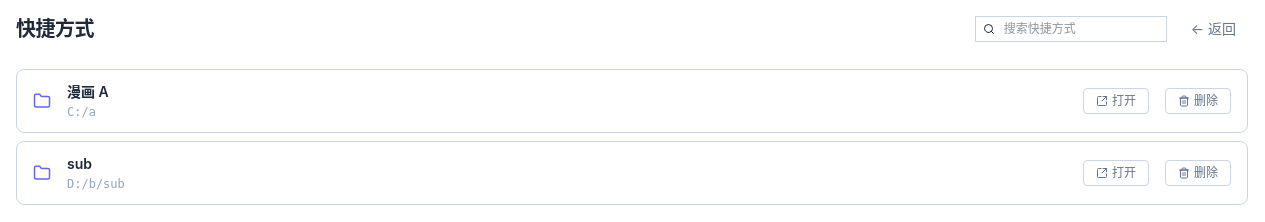
Scenario: Shortcuts.vue › 搜索：按别名/路径子串过滤，无结果显示「没有匹配项」
In the field with test id "list-search-input": (1071,29) [975,16,1167,42], type "漫画"
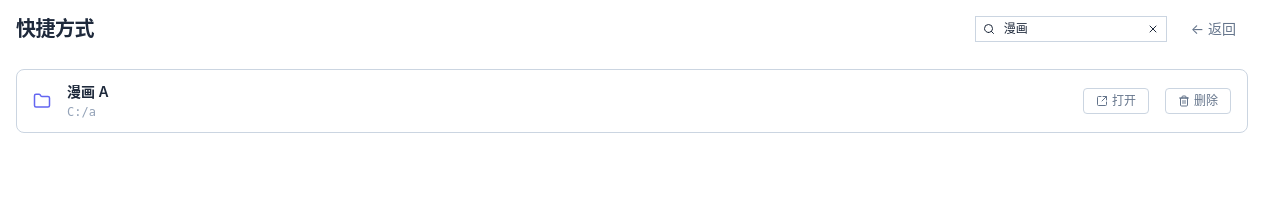
Check: the number of list items with test id "row" is 1, box [16,69,1248,133]
Replace the text in the field with test id "list-search-input" with "D:/b": (1071,29) [975,16,1167,42]
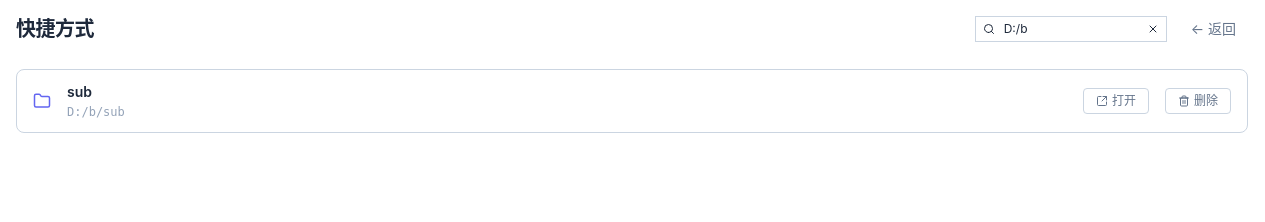
Check: the number of list items with test id "row" is 1, box [16,69,1248,133]
Replace the text in the field with test id "list-search-input" with "zzz不存在": (1071,29) [975,16,1167,42]
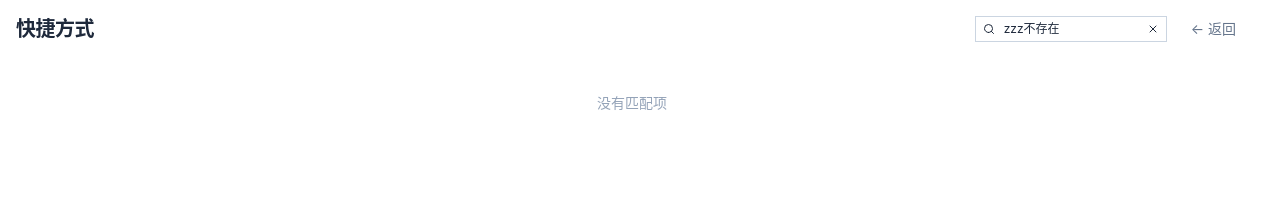
Check: the text "没有匹配项" is shown, box [597,94,667,111]
